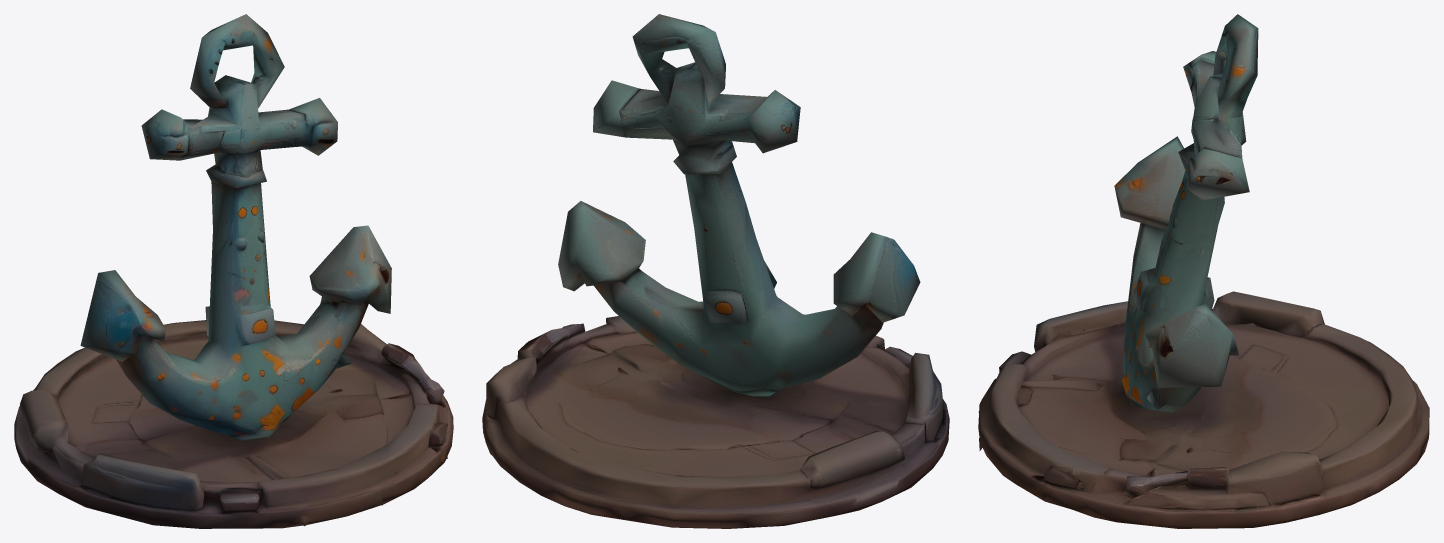
The model's file is weapon_anchor_tertiary_1500_raw.glb.
3 views of the same model, side by side, from view 1: azimuth 30°, elevation 25°; view 2: azimuth 150°, elevation 25°; view 3: azimuth 270°, elevation 25° (orthographic). The views are drawn at different scales.
Visible parts, largest first — view 1: tripo_node_3f8963e7-e038-4911-9535-d635c7745429; view 2: tripo_node_3f8963e7-e038-4911-9535-d635c7745429; view 3: tripo_node_3f8963e7-e038-4911-9535-d635c7745429.
Boxes of the visible parts, x1,y1,x2,y2 form: tripo_node_3f8963e7-e038-4911-9535-d635c7745429: (14,14,453,528); tripo_node_3f8963e7-e038-4911-9535-d635c7745429: (482,14,949,528); tripo_node_3f8963e7-e038-4911-9535-d635c7745429: (978,14,1429,528).
Bounding box in the file's own units: 0.9775 × 0.9801 × 0.9552.
Materials: 1 (1 with a texture image).
